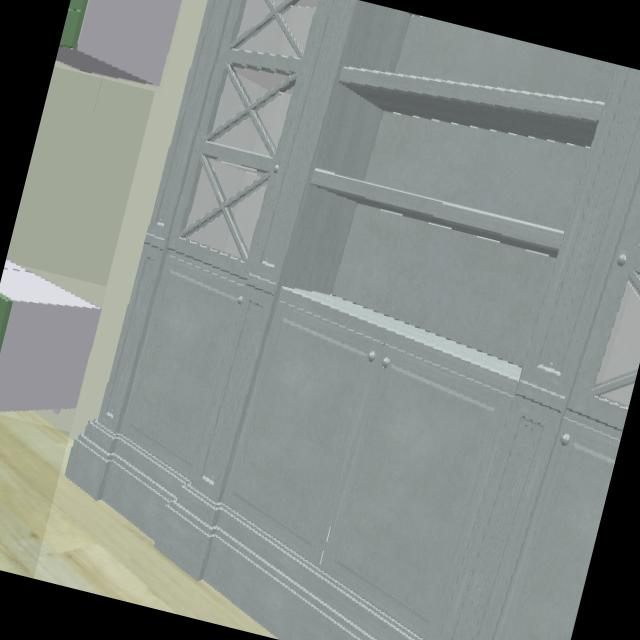bookshelf: (62, 0, 640, 640)
cabinet: (0, 261, 101, 415), (54, 0, 183, 87)
